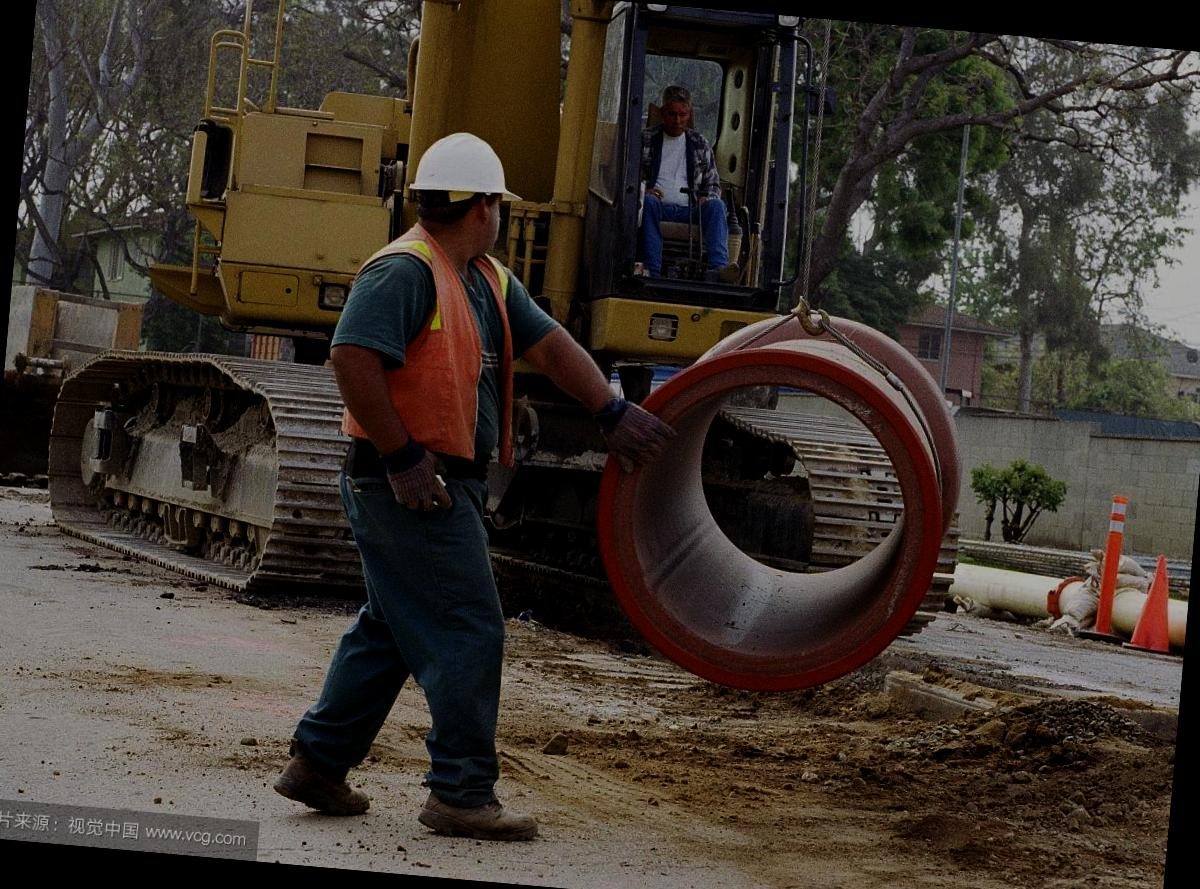helmet: (398, 128, 516, 226)
person: (278, 116, 598, 846), (636, 78, 758, 288)
